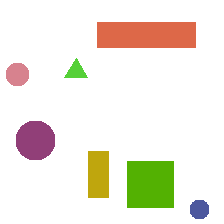circle: (16, 121, 54, 159), (6, 63, 28, 85), (190, 200, 208, 218)
rectangle: (97, 22, 195, 47), (127, 161, 173, 207), (88, 151, 108, 197)
triangle: (64, 58, 87, 77)
